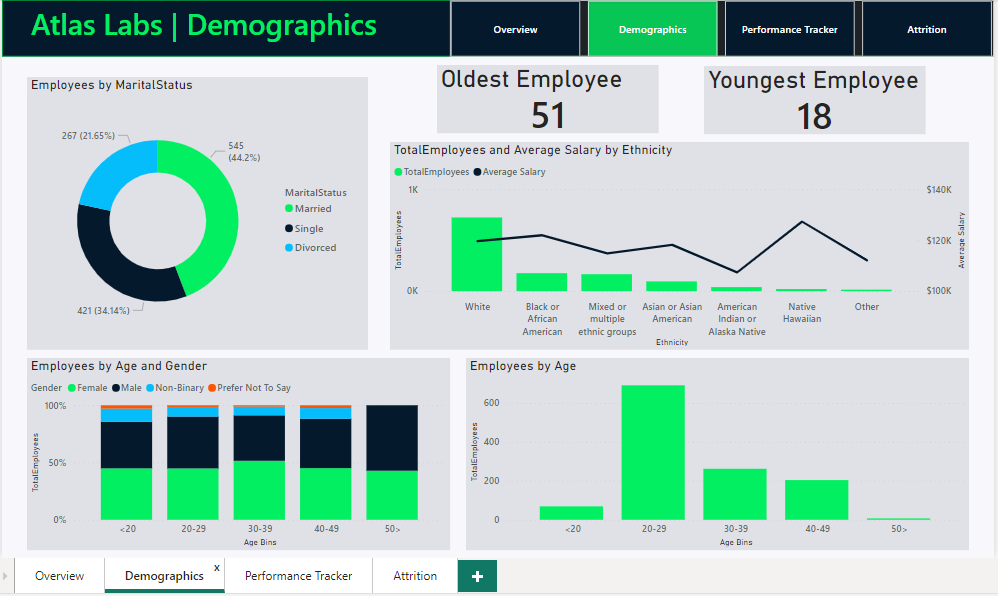

What the dashboard file says about the page in this screenshot:
{"tool":"powerbi","page":{"name":"Demographics","canvas":[1280,720],"ordinal":1},"visuals":[{"type":"card","title":"Youngest Employee","fields":{"Values":["Min(DimEmployee.Age)"]},"box":[905.6,85.3,286.3,88.1],"z":0},{"type":"card","title":"Oldest Employee","fields":{"Values":["Max(DimEmployee.Age)"]},"box":[561.5,84,286.3,88],"z":1000},{"type":"columnChart","title":"Employees by Age ","fields":{"Category":["DimEmployee.Age Bins"],"Y":["_Measures.TotalEmployees"]},"box":[598.7,461.9,649,247.7],"z":2000},{"type":"hundredPercentStackedColumnChart","title":"Employees by Age and Gender ","fields":{"Category":["DimEmployee.Age Bins"],"Y":["_Measures.TotalEmployees"],"Series":["DimEmployee.Gender"]},"box":[32.3,461.9,545.8,247.7],"z":3000},{"type":"donutChart","title":"Employees by MaritalStatus","fields":{"Category":["DimEmployee.MaritalStatus"],"Y":["_Measures.TotalEmployees"]},"box":[31.7,99.1,440.4,352.3],"z":4000},{"type":"lineStackedColumnComboChart","fields":{"Category":["DimEmployee.Ethnicity"],"Y":["_Measures.TotalEmployees"],"Y2":["_Measures.Average Salary"]},"box":[501,183.1,747.4,268.4],"z":5000},{"type":"shape","box":[0,0,1280,72.9],"z":6000},{"type":"textbox","box":[32,0,624,64],"z":7000},{"type":"pageNavigator","box":[578.1,0,701.9,72.9],"z":8000}]}

Visuals, with their boxes on the page's 1280x720 design canvas (x1, y1, x2, y2). These are canvas units, not pixel positions in the 998x596 screenshot, which may show the page scaled, cropped or inside an application window:
"Youngest Employee" card: (left=906, top=85, right=1192, bottom=173)
"Oldest Employee" card: (left=562, top=84, right=848, bottom=172)
"Employees by Age " columnChart: (left=599, top=462, right=1248, bottom=710)
"Employees by Age and Gender " hundredPercentStackedColumnChart: (left=32, top=462, right=578, bottom=710)
"Employees by MaritalStatus" donutChart: (left=32, top=99, right=472, bottom=451)
lineStackedColumnComboChart - DimEmployee.Ethnicity x _Measures.TotalEmployees: (left=501, top=183, right=1248, bottom=452)
shape: (left=0, top=0, right=1280, bottom=73)
textbox: (left=32, top=0, right=656, bottom=64)
pageNavigator: (left=578, top=0, right=1280, bottom=73)
